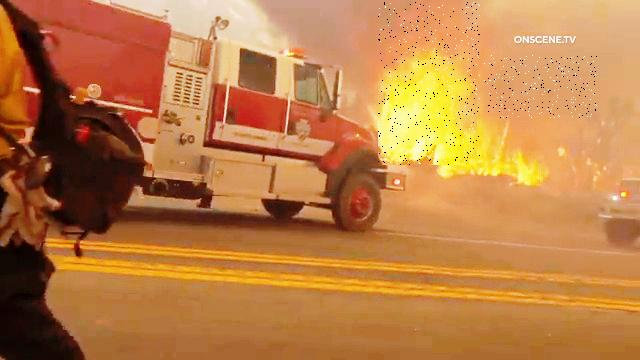fire: (379, 2, 481, 165), (485, 56, 598, 119)
